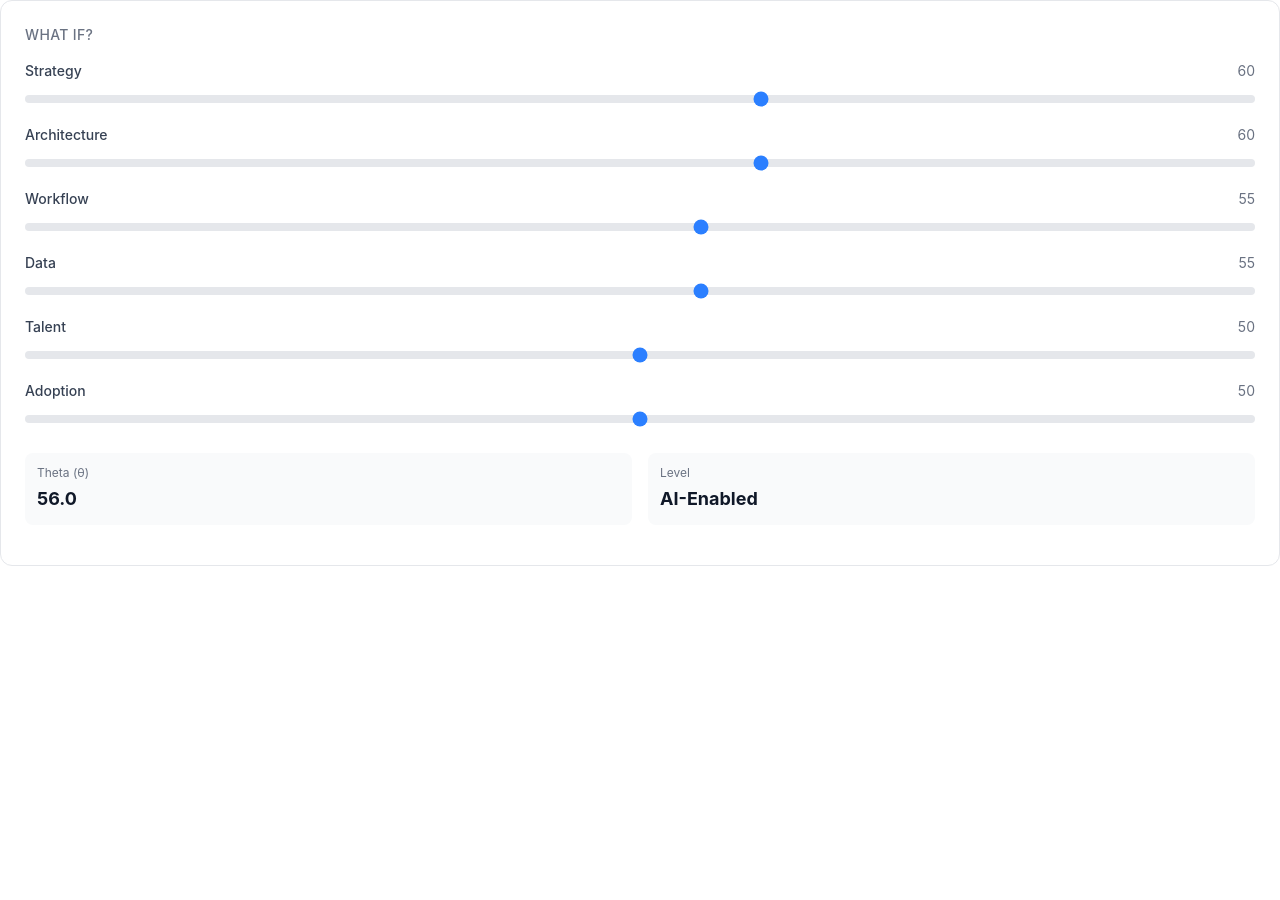
WhatIfPanel › shows downward gating alert when workflow drops below 50
Set the slider labelled "Workflow" to "45" at (579, 227), box [25,223,1255,231]
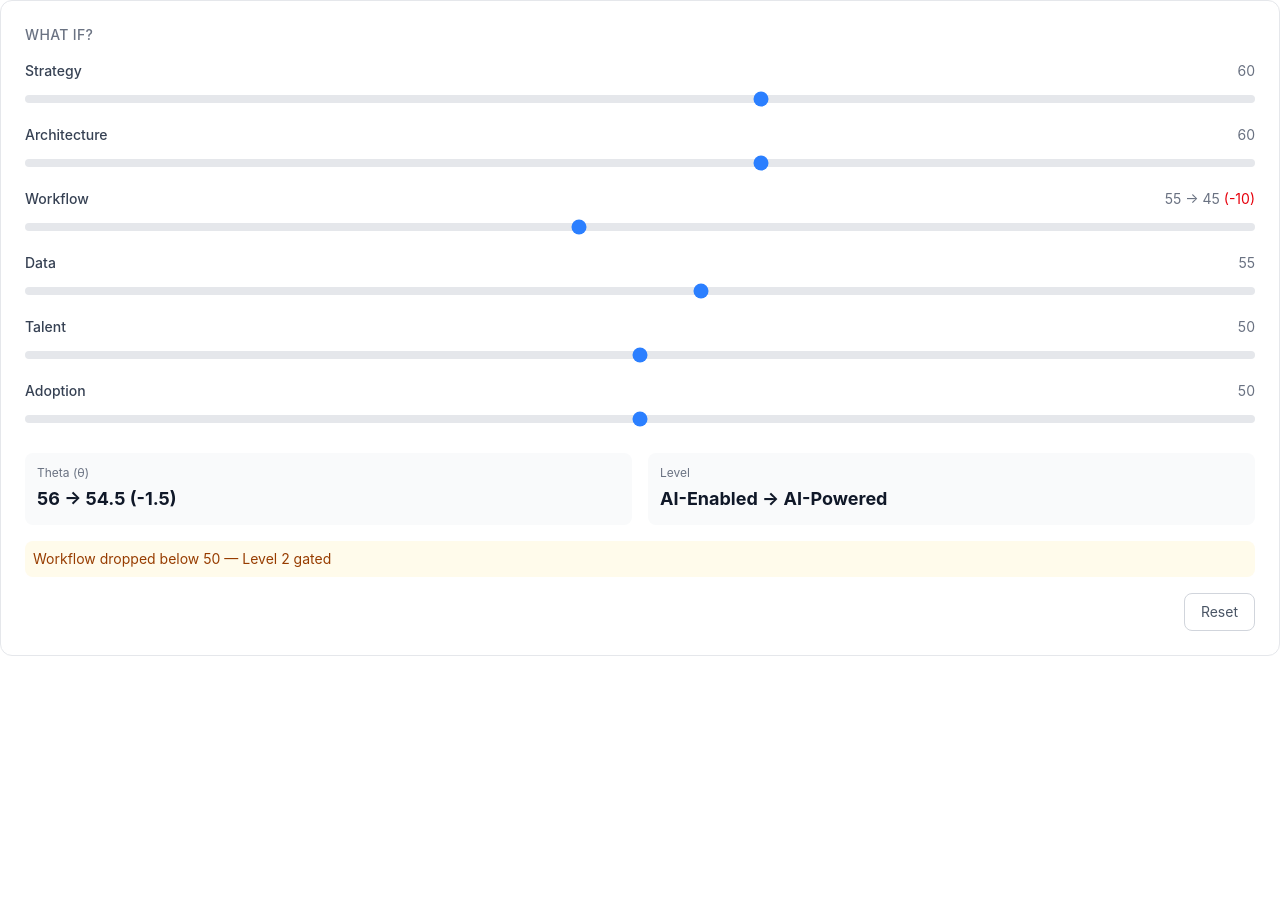
Expected: the text "Workflow dropped below 50 — Level 2 gated" is shown, [25,541,1255,577]
